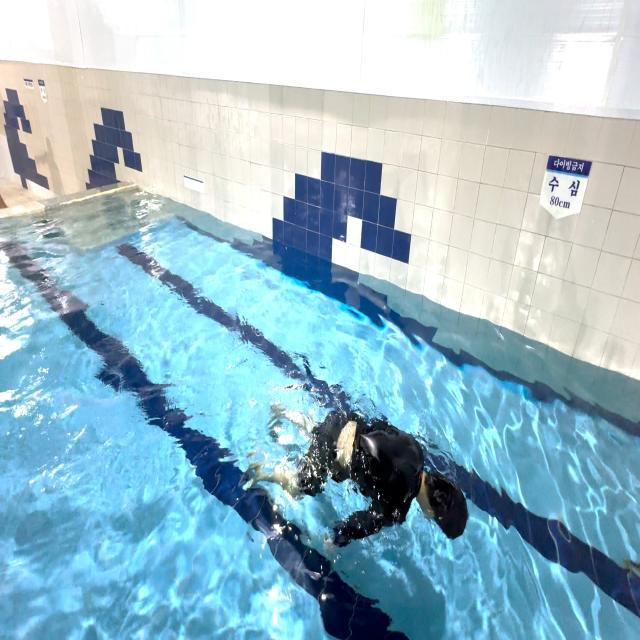Drowning: (238, 390, 473, 575)
